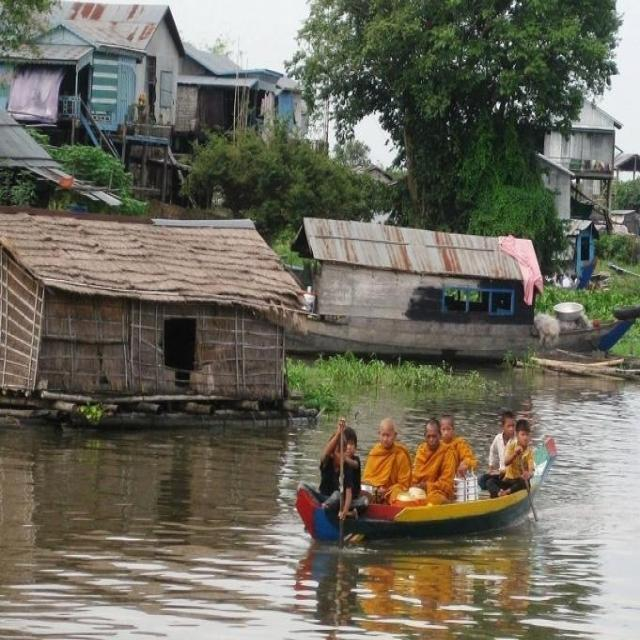Hyacinth: (280, 356, 494, 412), (542, 288, 640, 324)
boat: (274, 213, 558, 368), (275, 438, 572, 541)
